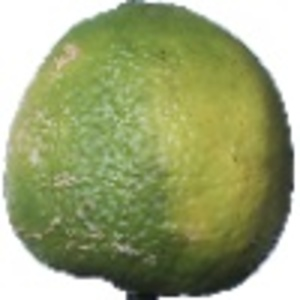limão: (4, 1, 294, 300)
